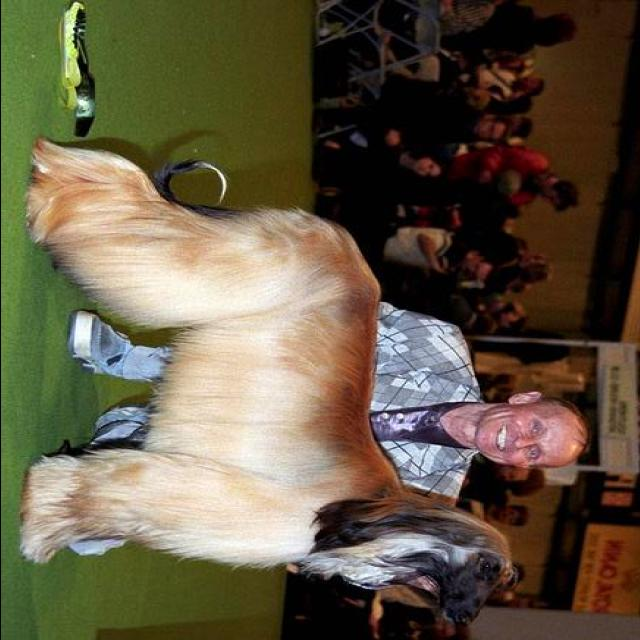afghan_hound: (24, 133, 516, 627)
